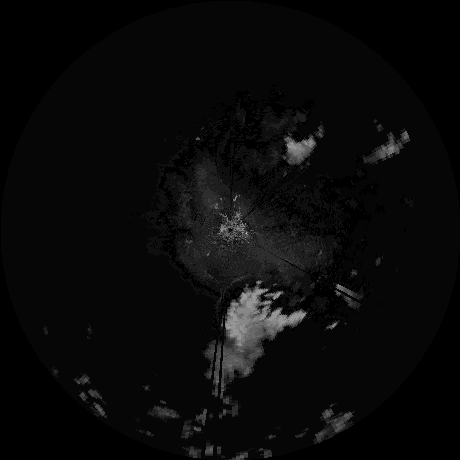frontgust: (216, 272, 254, 310)
